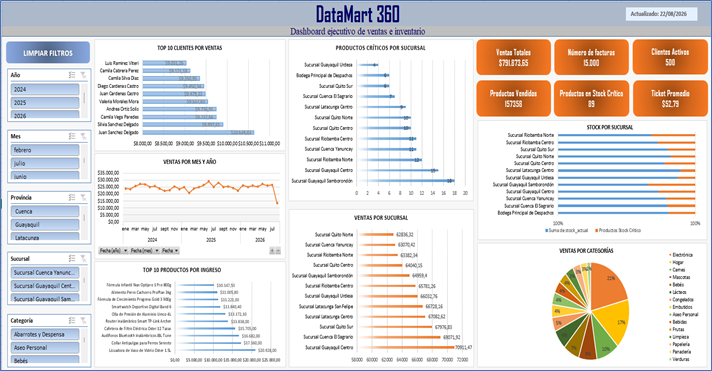

The dashboard page shown, as its layout file describes it:
{"tool":"powerbi","page":{"name":"Análisis Ventas","canvas":[1920,1080],"ordinal":1},"visuals":[{"type":"textbox","box":[1096,22,634,56],"z":0,"group":"g3"},{"type":"actionButton","box":[427.1,41.6,72.4,72.4],"z":0,"group":"g2"},{"type":"listSlicer","fields":{"Values":["Calendario.Año"]},"box":[21.7,173.7,300,190],"z":0},{"type":"cardVisual","fields":{"Data":["_Medidas.Ventas Totales"]},"box":[351.9,174.1,262.1,129.1],"z":0,"group":"g4"},{"type":"actionButton","box":[333,41.6,72.4,72.4],"z":1000,"group":"g2"},{"type":"cardVisual","fields":{"Data":["_Medidas.Ticket Promedio"]},"box":[992.6,174.1,262.1,131],"z":1000,"group":"g4"},{"type":"listSlicer","title":"Mes","fields":{"Values":["Calendario.Nombre Mes"]},"box":[22.2,402.9,300,190],"z":1000},{"type":"listSlicer","title":"Sucursales","fields":{"Values":["sucursales.nombre"]},"box":[21.7,632,300,190],"z":2000},{"type":"group","id":"g1","title":"Grupo 4","box":[1096,22,634,98],"z":3000},{"type":"listSlicer","title":"Productos","fields":{"Values":["categorias.nombre"]},"box":[22.2,861.1,300,190],"z":4000},{"type":"actionButton","title":"Limpiar","box":[21.7,41.6,300,72],"z":5000},{"type":"group","id":"g2","title":"Grupo 3","box":[333,41.6,166.5,72.4],"z":6000},{"type":"cardVisual","fields":{"Data":["_Medidas.Numero Facturas"]},"box":[672.3,174.1,262.1,129.1],"z":6000,"group":"g4"},{"type":"cardVisual","fields":{"Data":["_Medidas.Crecimiento % Interanual"]},"box":[1633.4,174.1,262.1,129.1],"z":7000,"group":"g4"},{"type":"lineChart","title":"Ventas por Mes","fields":{"Category":["Calendario.Año-Mes"],"Y":["_Medidas.Ventas Totales"]},"box":[351.4,706.8,524.2,349.5],"z":7000},{"type":"cardVisual","fields":{"Data":["_Medidas.Crecimiento Mensual %"]},"box":[1313,174.1,262.1,131],"z":8000,"group":"g4"},{"type":"areaChart","title":"Ventas Acumuladas","fields":{"Category":["Calendario.Año-Mes"],"Y":["_Medidas.Ventas YTD"]},"box":[1364.8,707.4,531.5,351.9],"z":8000},{"type":"clusteredColumnChart","title":"Ventas por Trimestre","fields":{"Category":["Calendario.Trimestre"],"Series":["Calendario.Año"],"Y":["_Medidas.Ventas Totales"]},"box":[891.5,706.8,456.7,351.4],"z":9000},{"type":"columnChart","title":"Variación Mensual","fields":{"Category":["Calendario.Año-Mes"],"Y":["_Medidas.Variación Mensual"]},"box":[351.9,335.2,994.4,359.3],"z":10000},{"type":"group","id":"g3","title":"Grupo 2","box":[1096,22,634,98],"z":11000,"group":"g1"},{"type":"lineChart","title":"Comparación de ventas por año","fields":{"Category":["Calendario.Nombre Mes"],"Series":["Calendario.Año"],"Y":["_Medidas.Ventas Totales"]},"box":[1364.8,335.2,531.5,359.3],"z":11000},{"type":"group","id":"g4","title":"Grupo 5","box":[351.9,174.1,1543.6,131],"z":12000},{"type":"image","box":[1757.4,3.7,138.9,137],"z":12001},{"type":"textbox","box":[1274,78,446,42],"z":16000,"group":"g3"}]}

Visuals, with their boxes on the page's 1920x1080 design canvas (x1, y1, x2, y2). These are canvas units, not pixel positions in the 712x371 screenshot, which may show the page scaled, cropped or inside an application window:
textbox: (1096,22,1730,78)
actionButton: (427,42,500,114)
listSlicer - Calendario.Año: (22,174,322,364)
cardVisual - _Medidas.Ventas Totales: (352,174,614,303)
actionButton: (333,42,405,114)
cardVisual - _Medidas.Ticket Promedio: (993,174,1255,305)
"Mes" listSlicer: (22,403,322,593)
"Sucursales" listSlicer: (22,632,322,822)
"Grupo 4" group: (1096,22,1730,120)
"Productos" listSlicer: (22,861,322,1051)
"Limpiar" actionButton: (22,42,322,114)
"Grupo 3" group: (333,42,500,114)
cardVisual - _Medidas.Numero Facturas: (672,174,934,303)
cardVisual - _Medidas.Crecimiento % Interanual: (1633,174,1896,303)
"Ventas por Mes" lineChart: (351,707,876,1056)
cardVisual - _Medidas.Crecimiento Mensual %: (1313,174,1575,305)
"Ventas Acumuladas" areaChart: (1365,707,1896,1059)
"Ventas por Trimestre" clusteredColumnChart: (892,707,1348,1058)
"Variación Mensual" columnChart: (352,335,1346,694)
"Grupo 2" group: (1096,22,1730,120)
"Comparación de ventas por año" lineChart: (1365,335,1896,694)
"Grupo 5" group: (352,174,1896,305)
image: (1757,4,1896,141)
textbox: (1274,78,1720,120)
